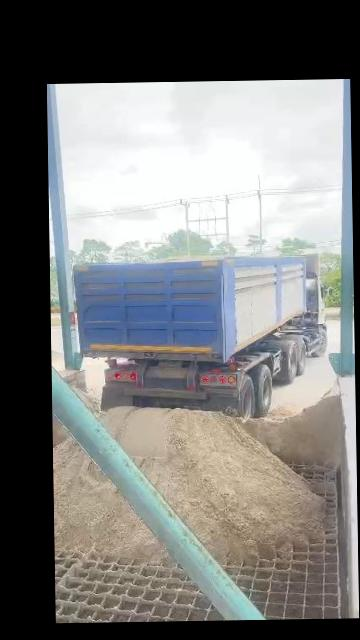sand: (103, 408, 323, 561), (53, 439, 166, 560), (238, 388, 342, 467), (73, 387, 99, 414), (52, 415, 68, 447), (155, 254, 225, 261), (311, 482, 335, 496)
